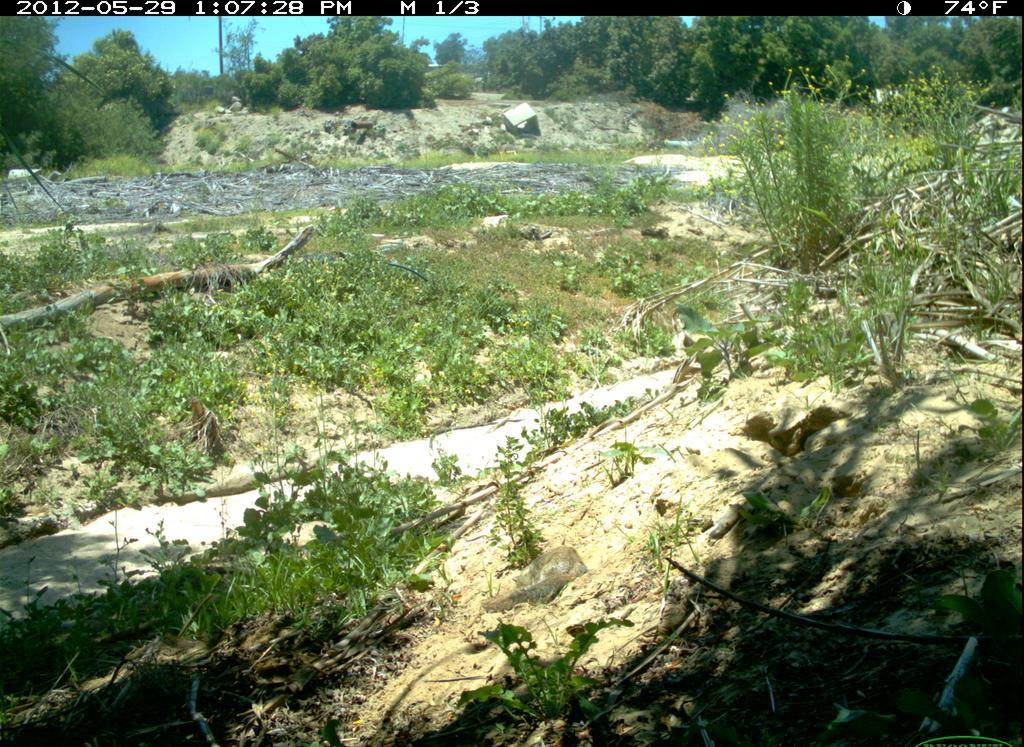squirrel: (477, 543, 601, 623)
